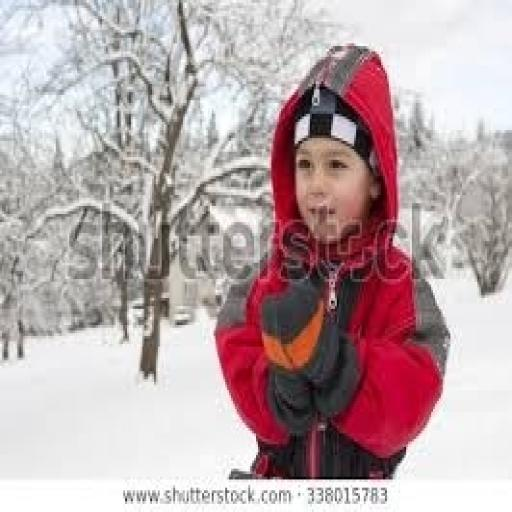clapping: (212, 40, 450, 480)
